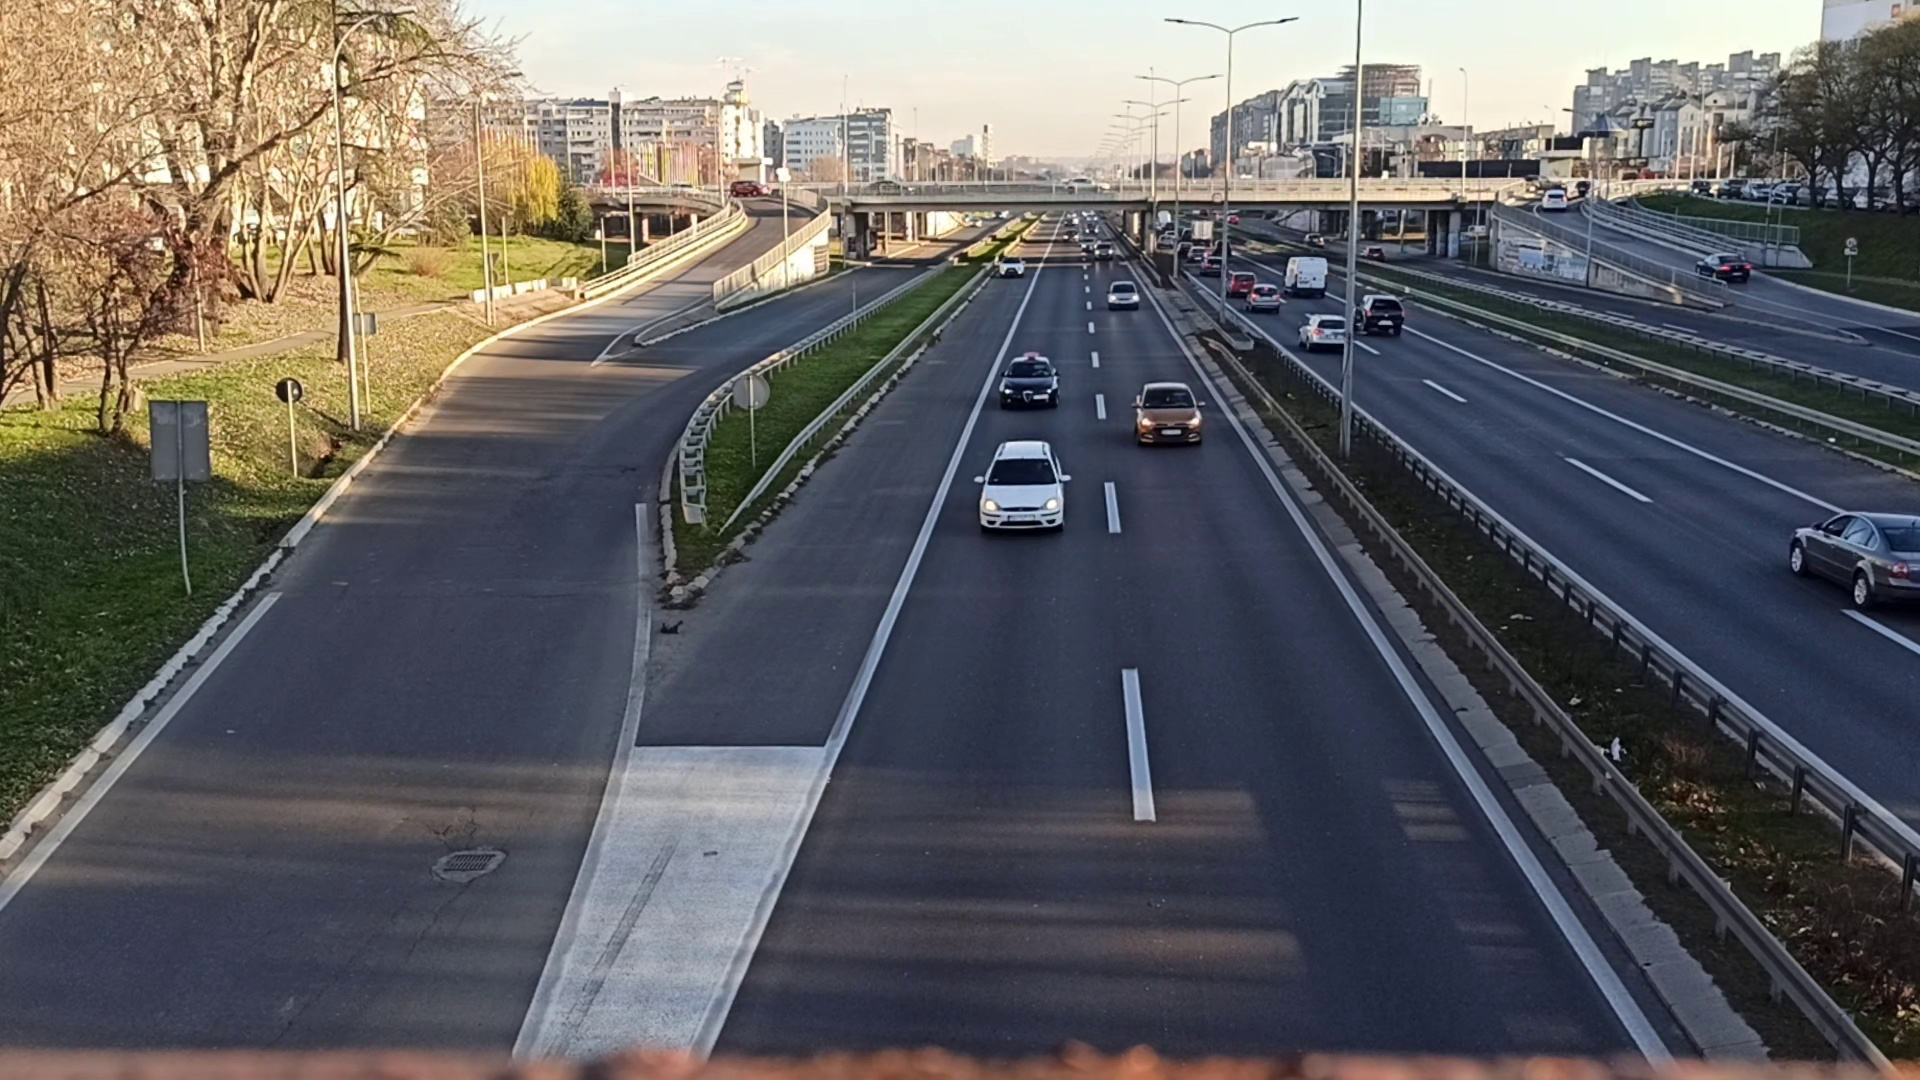car: (1789, 505, 1920, 609), (977, 436, 1068, 531), (1131, 380, 1205, 446), (1000, 353, 1060, 407), (1695, 251, 1750, 284), (1298, 313, 1346, 347)
